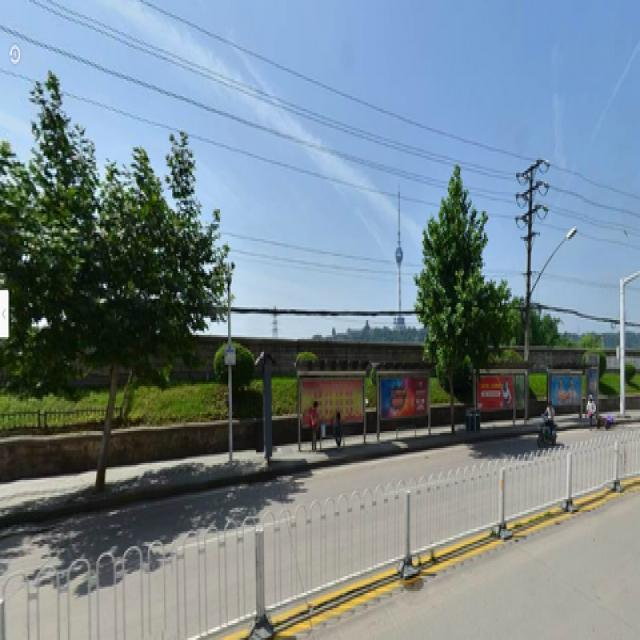meta: (43, 132, 236, 480), (435, 183, 480, 416)
